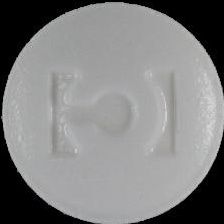0179-0082: (0, 0, 224, 224)
